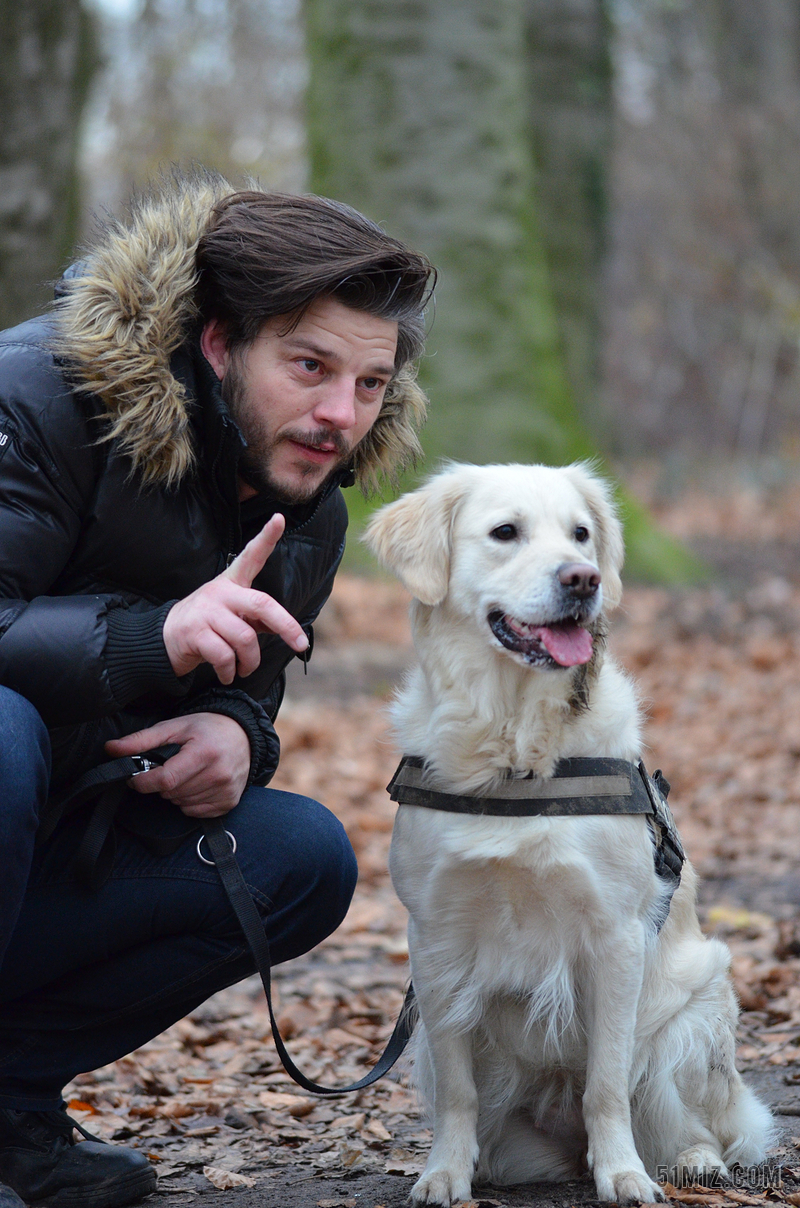大人: (8, 168, 394, 1164)
狗: (344, 454, 774, 1188)
